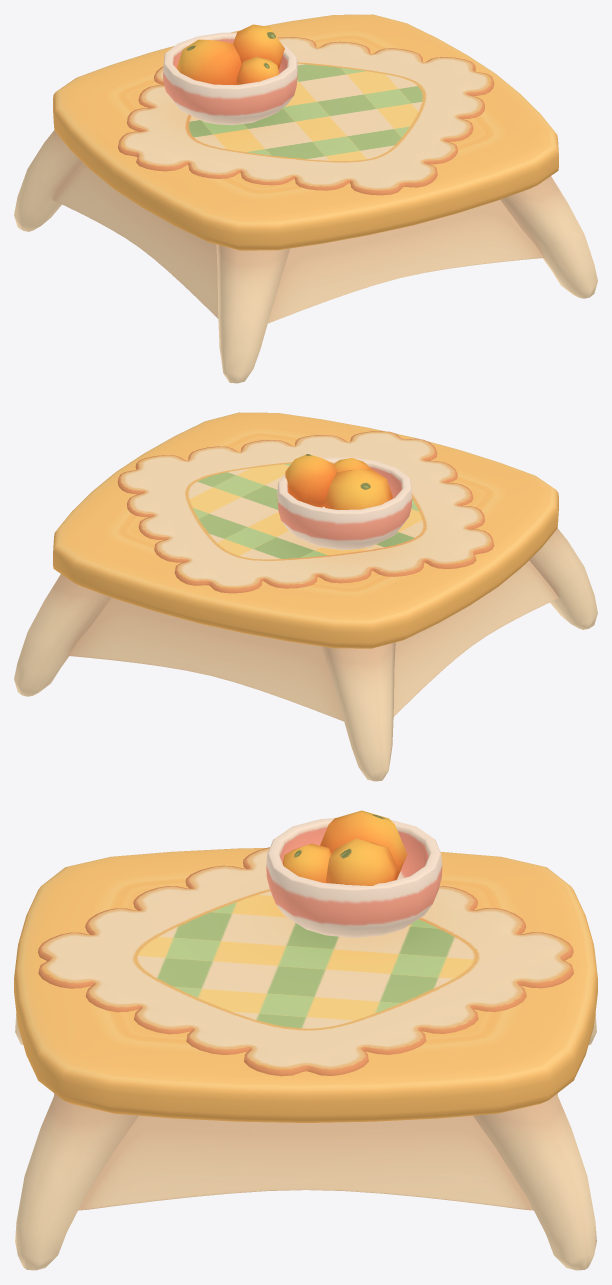
Rendered from table.glb.
The picture shows the model from 3 angles, top to bottom: view 1: azimuth 30°, elevation 25°; view 2: azimuth 150°, elevation 25°; view 3: azimuth 270°, elevation 25°; orthographic projection. The views are drawn at different scales.
Visible parts, largest first — view 1: Plane, Plane.002, Cube.007, Cube, Cube.003, Cube.004, Cube.006, Cube.005; view 2: Plane, Plane.002, Cube.007, Cube, Cube.003, Cube.004, Cube.006; view 3: Plane, Plane.002, Cube.007, Cube, Cube.003, Cube.006, Cube.004, Cube.005.
Boxes of the visible parts, <box> form: Plane: <box>53,14,558,250</box>; Plane.002: <box>118,37,494,195</box>; Cube.007: <box>53,162,543,323</box>; Cube: <box>14,130,597,383</box>; Cube.003: <box>163,32,297,125</box>; Cube.004: <box>176,39,241,84</box>; Cube.006: <box>233,24,284,69</box>; Cube.005: <box>236,56,279,84</box>; Plane: <box>53,412,558,648</box>; Plane.002: <box>117,431,494,593</box>; Cube.007: <box>68,560,558,721</box>; Cube: <box>14,528,597,781</box>; Cube.003: <box>277,457,411,550</box>; Cube.004: <box>324,468,392,509</box>; Cube.006: <box>285,454,337,507</box>; Plane: <box>14,848,597,1122</box>; Plane.002: <box>38,847,573,1076</box>; Cube.007: <box>54,1093,557,1210</box>; Cube: <box>15,1013,596,1270</box>; Cube.003: <box>266,818,442,938</box>; Cube.006: <box>326,838,397,885</box>; Cube.004: <box>320,810,407,879</box>; Cube.005: <box>282,843,331,882</box>.
Bounding box in the file's own units: 0.8718 × 0.4885 × 0.8718.
Materials: 1 (1 with a texture image).
